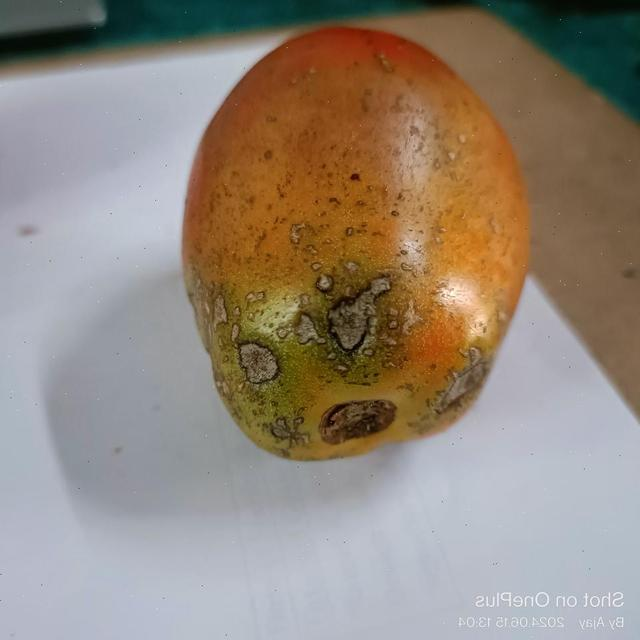Bacterial Spot Fruit: (26, 17, 310, 286)
